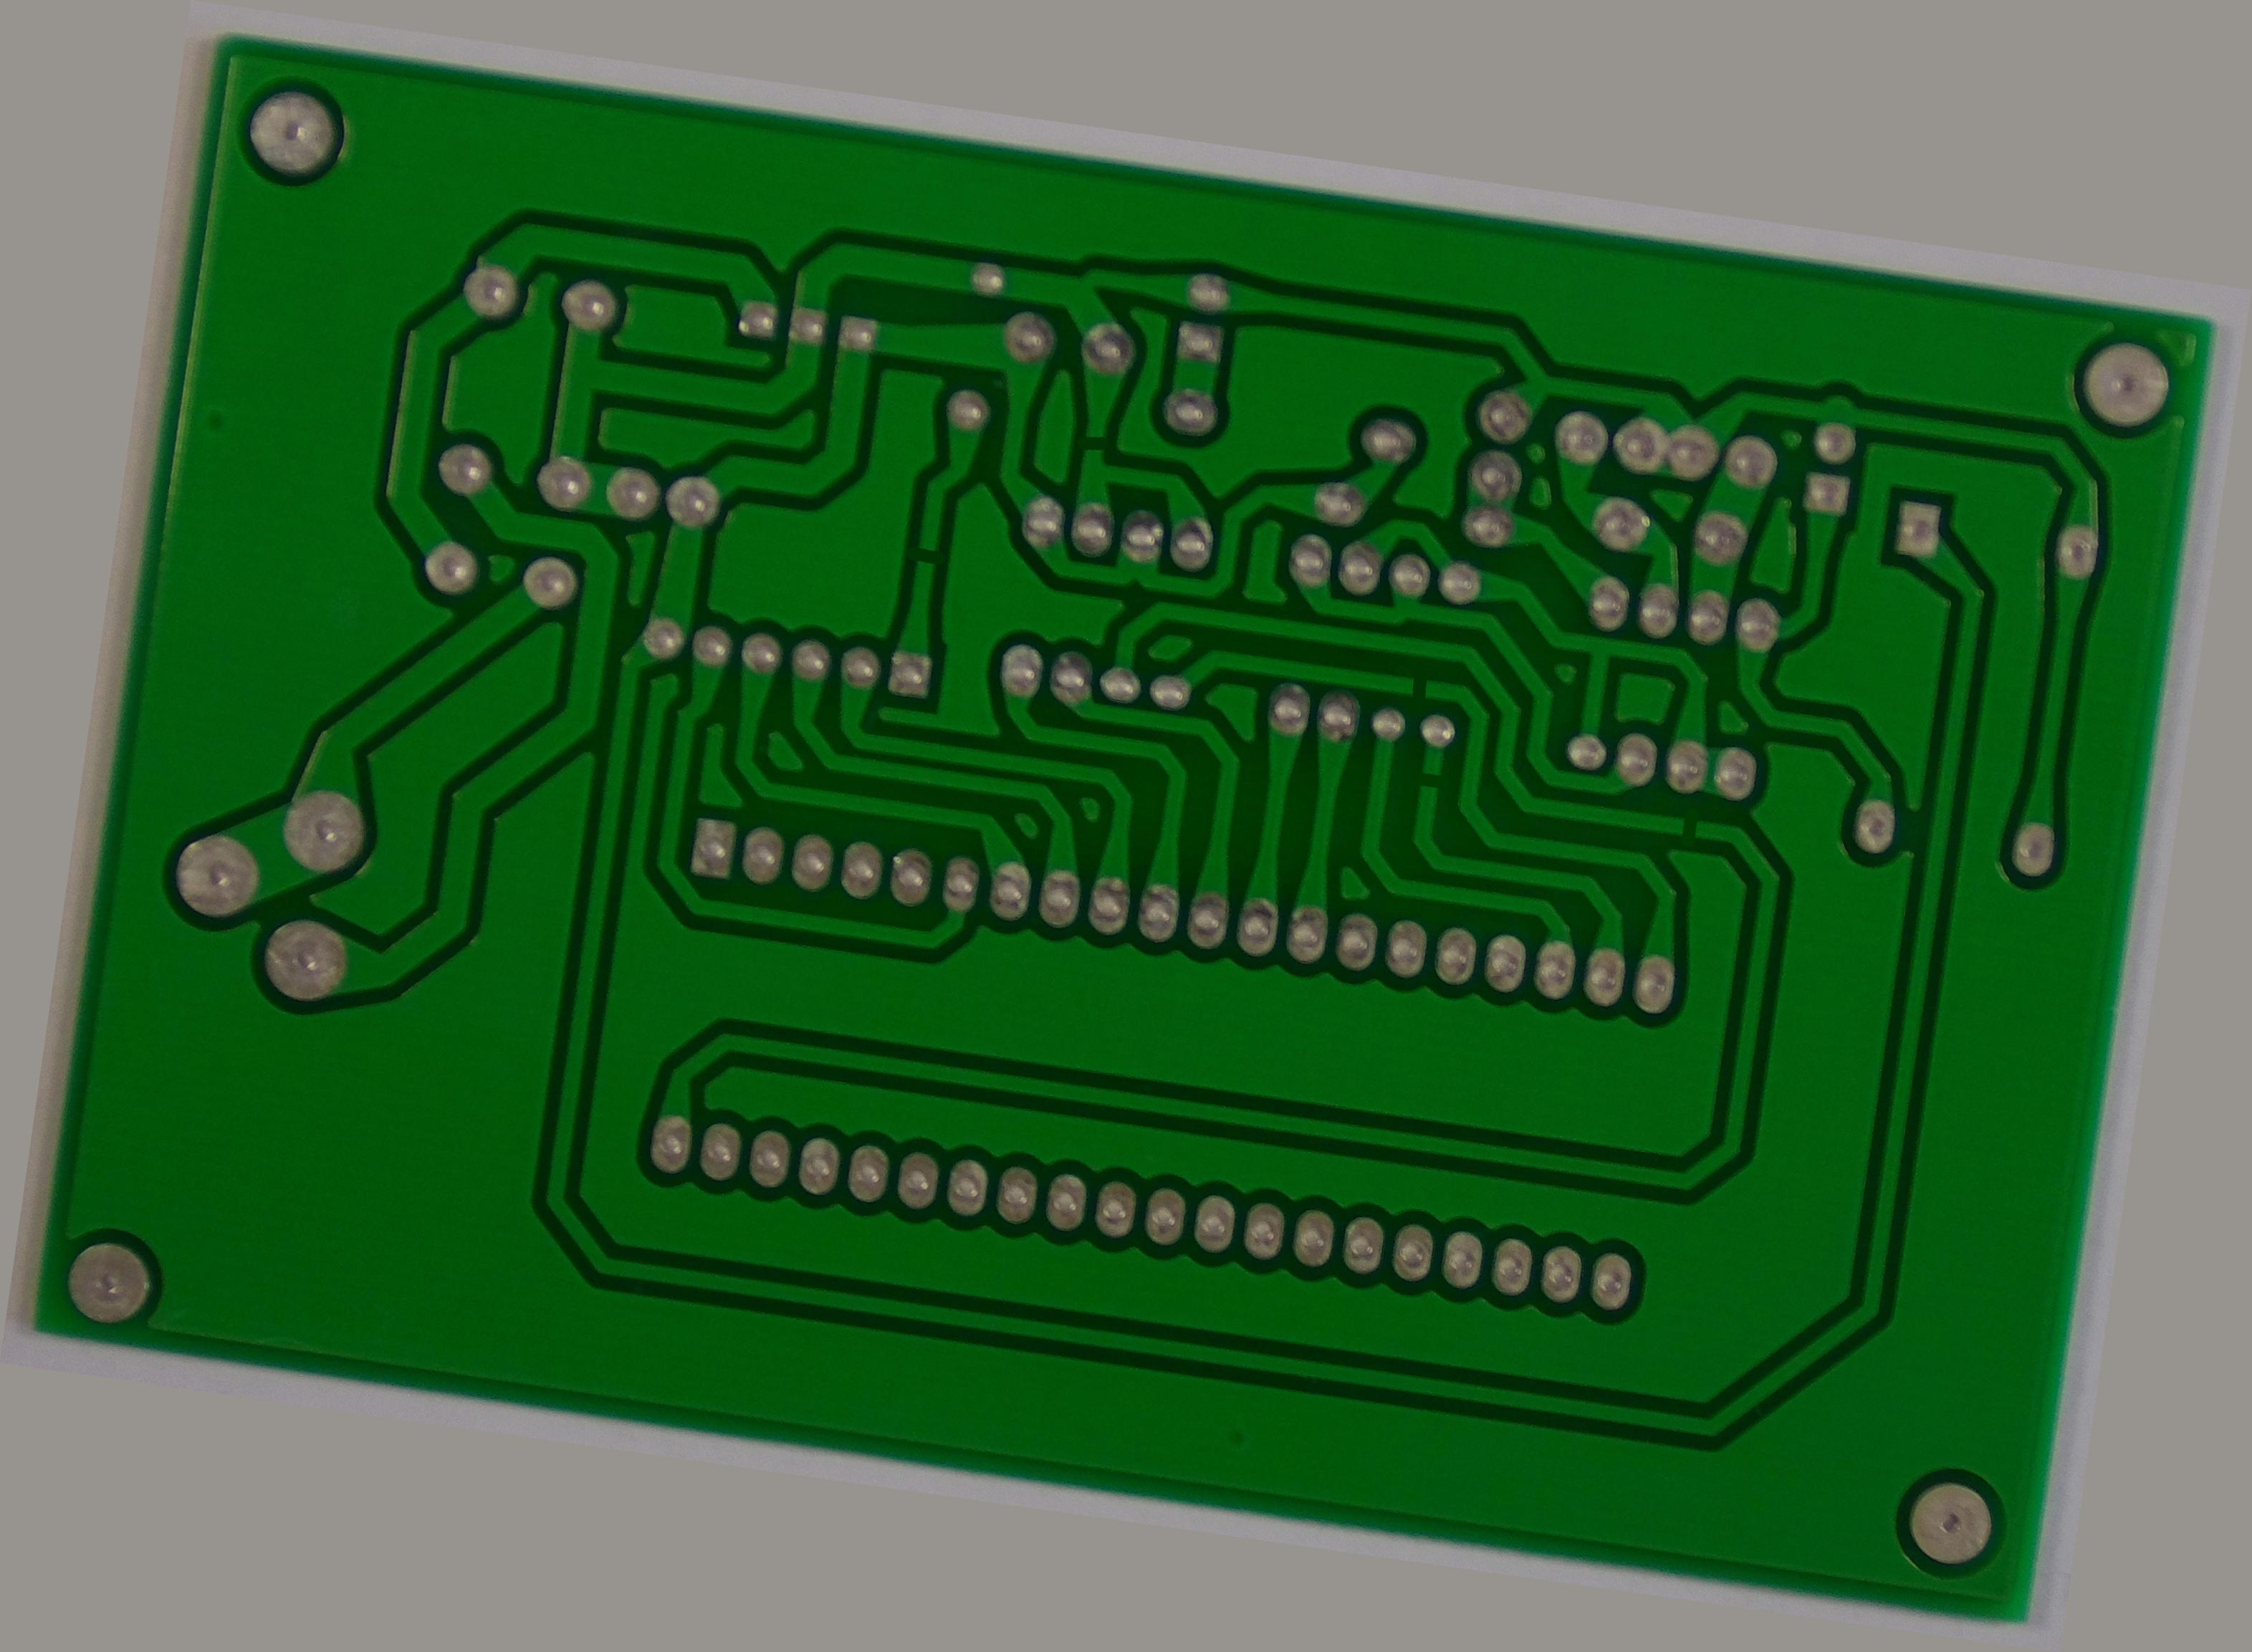open_circuit: (850, 514, 892, 563), (1710, 711, 1748, 753), (1399, 591, 1439, 629), (1428, 698, 1462, 741), (1018, 357, 1053, 393)
